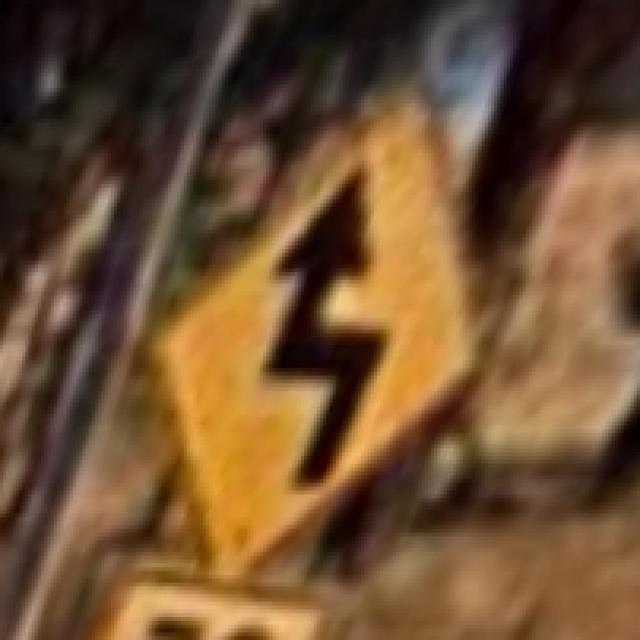Tikungan Ganda Pertama Ke Kiri: (152, 77, 475, 575)
